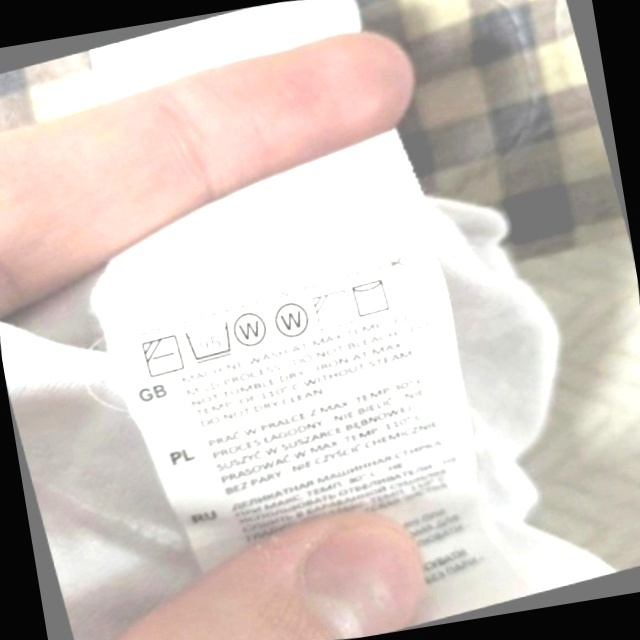95C: (178, 313, 242, 371)
dry_flat_in_shade: (134, 326, 191, 385)
line_dry: (344, 270, 399, 324)
shade_dry: (306, 282, 360, 337)
wet_clean: (225, 301, 277, 355), (266, 294, 318, 348)
